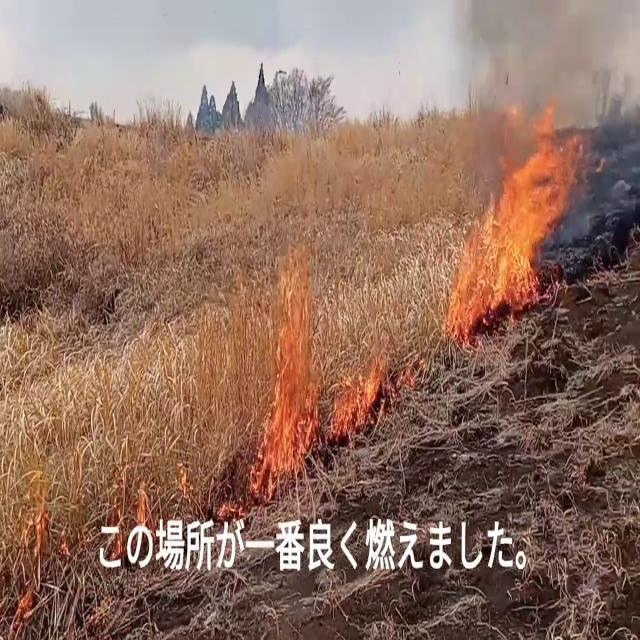Fire: (225, 209, 354, 507), (445, 104, 587, 336)
Smoke: (428, 0, 640, 207)
